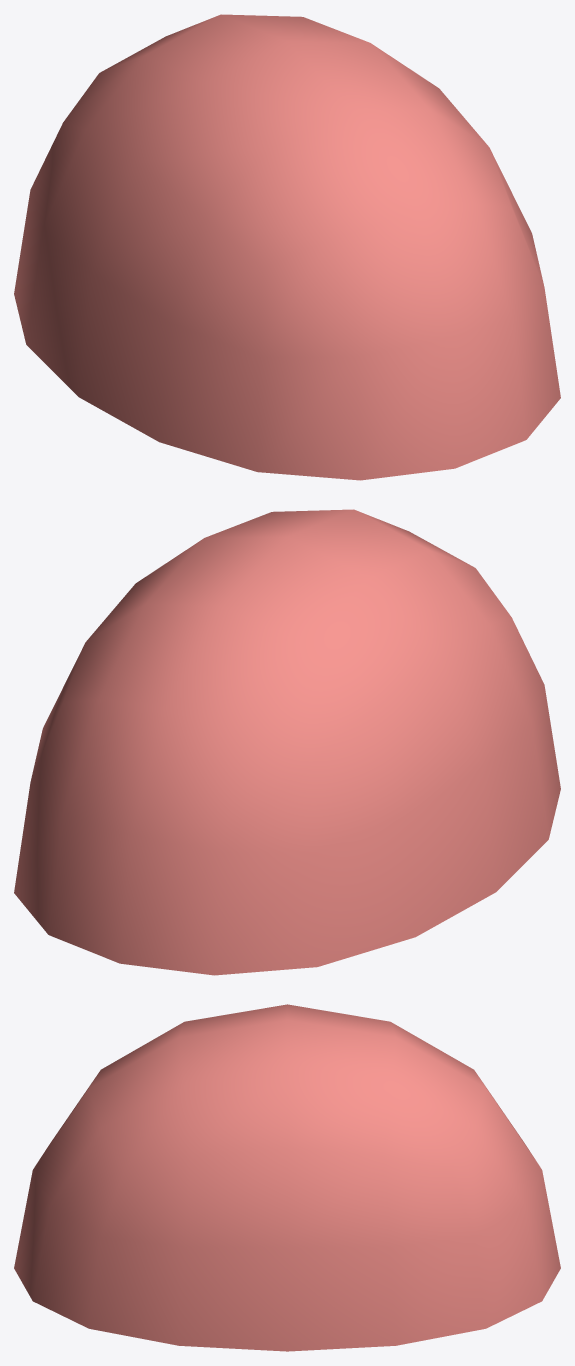
Rendered from buisson-automne.gltf.
The picture shows the model from 3 angles, top to bottom: view 1: azimuth 30°, elevation 25°; view 2: azimuth 150°, elevation 25°; view 3: azimuth 270°, elevation 25°; orthographic projection. The views are drawn at different scales.
Visible parts, largest first — view 1: buisson.001; view 2: buisson.001; view 3: buisson.001.
Part boxes in pixels (x1=…): buisson.001: x1=14, y1=14, x2=560, y2=480; buisson.001: x1=14, y1=509, x2=560, y2=975; buisson.001: x1=14, y1=1004, x2=560, y2=1351.
Size of the model in its own units: 0.6461 by 0.4484 by 0.8967.
